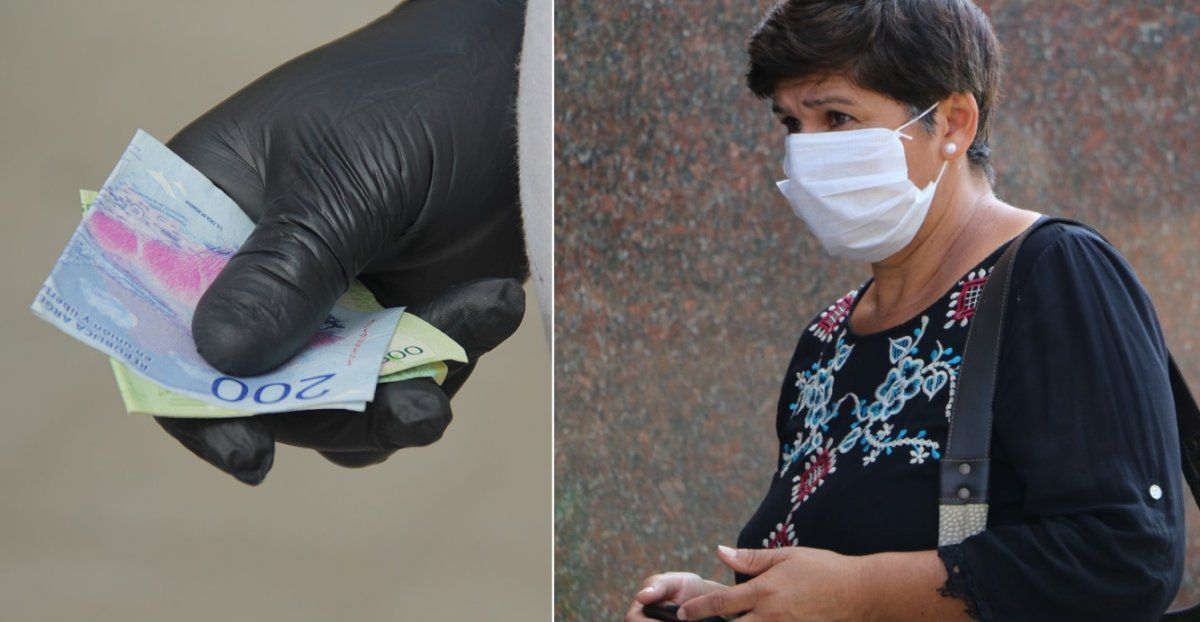barbijo: (771, 123, 950, 264)
